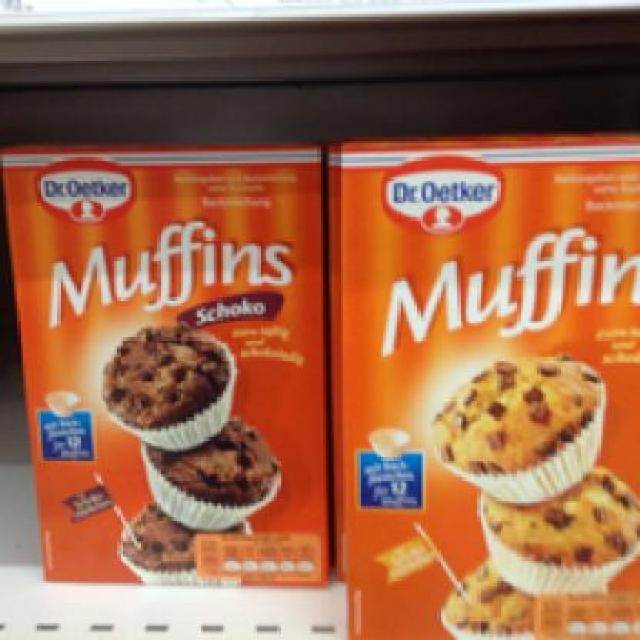Cake: (328, 137, 638, 632), (0, 140, 329, 583)
